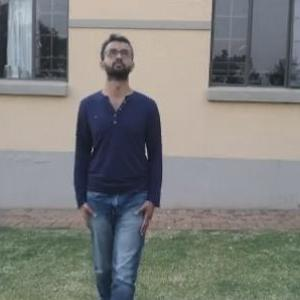follow: (69, 26, 166, 297)
